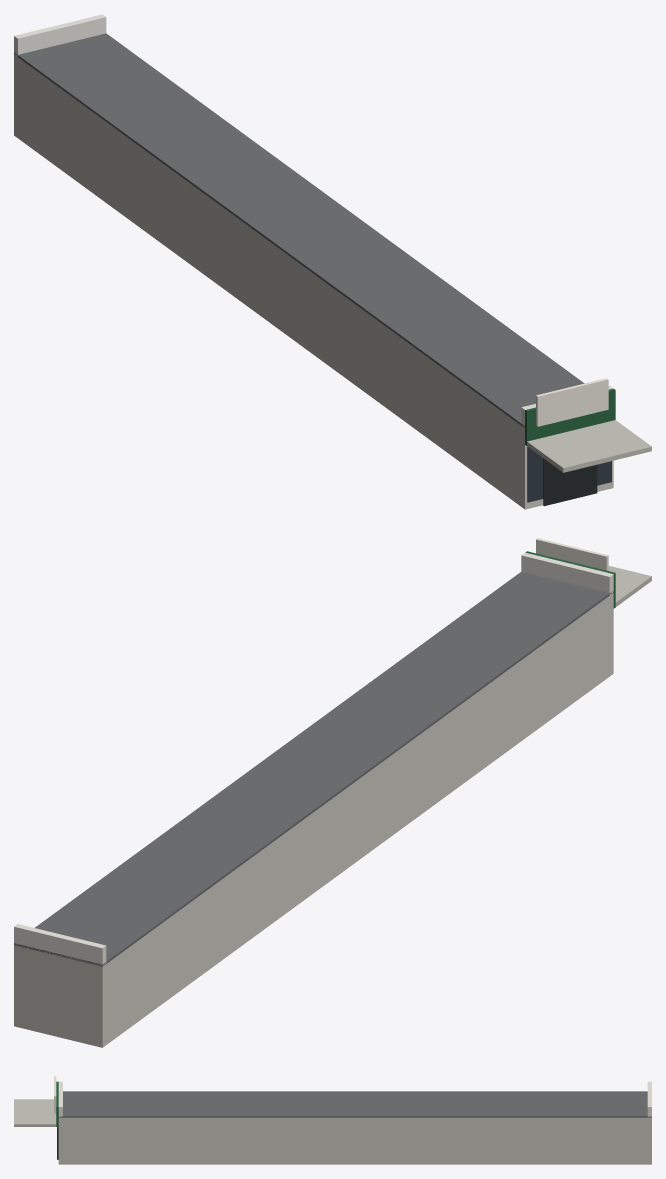
File: store-entrance.glb
The picture shows the model from 3 angles, top to bottom: view 1: azimuth 30°, elevation 25°; view 2: azimuth 150°, elevation 25°; view 3: azimuth 270°, elevation 25°; orthographic projection. The views are drawn at different scales.
Visible parts, largest first — view 1: store-entrance; view 2: store-entrance; view 3: store-entrance.
Boxes of the visible parts, x1,y1,x2,y2 form: store-entrance: [14, 14, 651, 509]; store-entrance: [14, 538, 651, 1047]; store-entrance: [14, 1076, 651, 1164].
Bounding box in the file's own units: 4 × 4.9 × 43.
